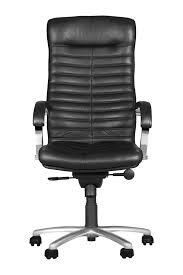chair: (31, 16, 154, 259)
